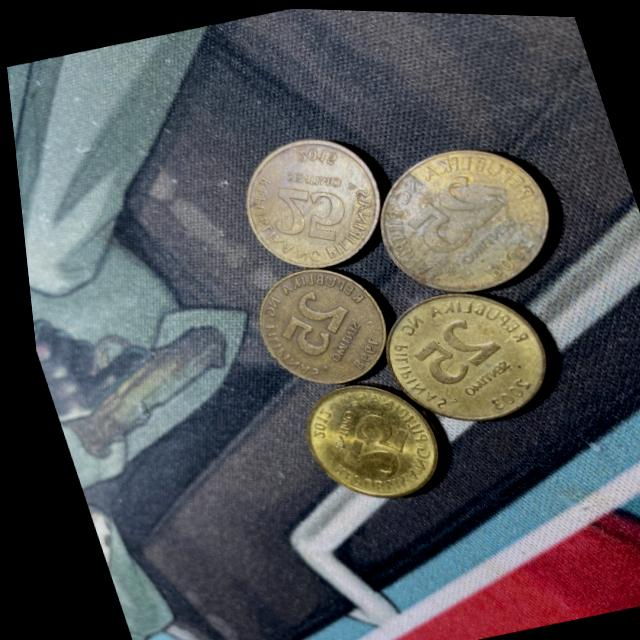25Cent_Old_Front: (393, 161, 505, 255), (394, 310, 501, 393), (254, 172, 351, 247), (320, 403, 408, 485), (263, 278, 353, 358)
